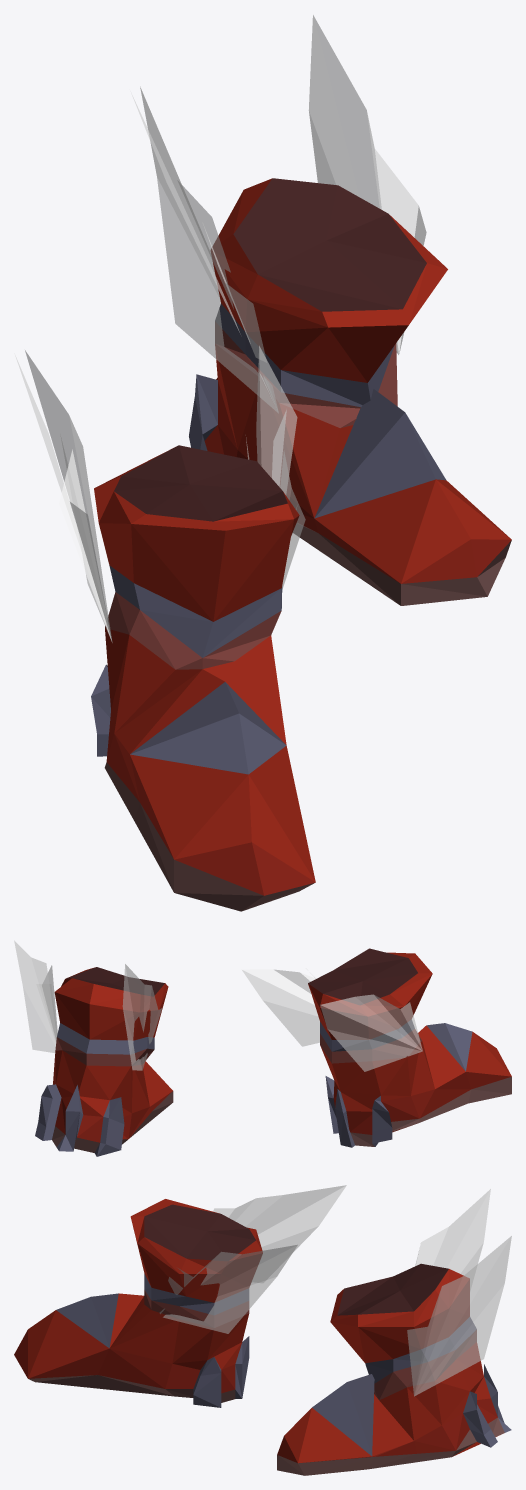
The model's file is player_primordial_boots.glb.
3 renders of one model, top to bottom at view 1: azimuth 30°, elevation 25°; view 2: azimuth 150°, elevation 25°; view 3: azimuth 270°, elevation 25°, orthographic. The views are drawn at different scales.
Size of the model in its own units: 53.74 by 42.04 by 71.27.
2 materials, 2 textured.
